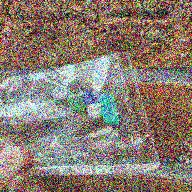러키펜정: (51, 86, 71, 101)
씨엠지세파클러캡슐: (82, 91, 102, 119)
에르도캡슐: (99, 93, 120, 127)
휴티렌정: (67, 93, 86, 113)
